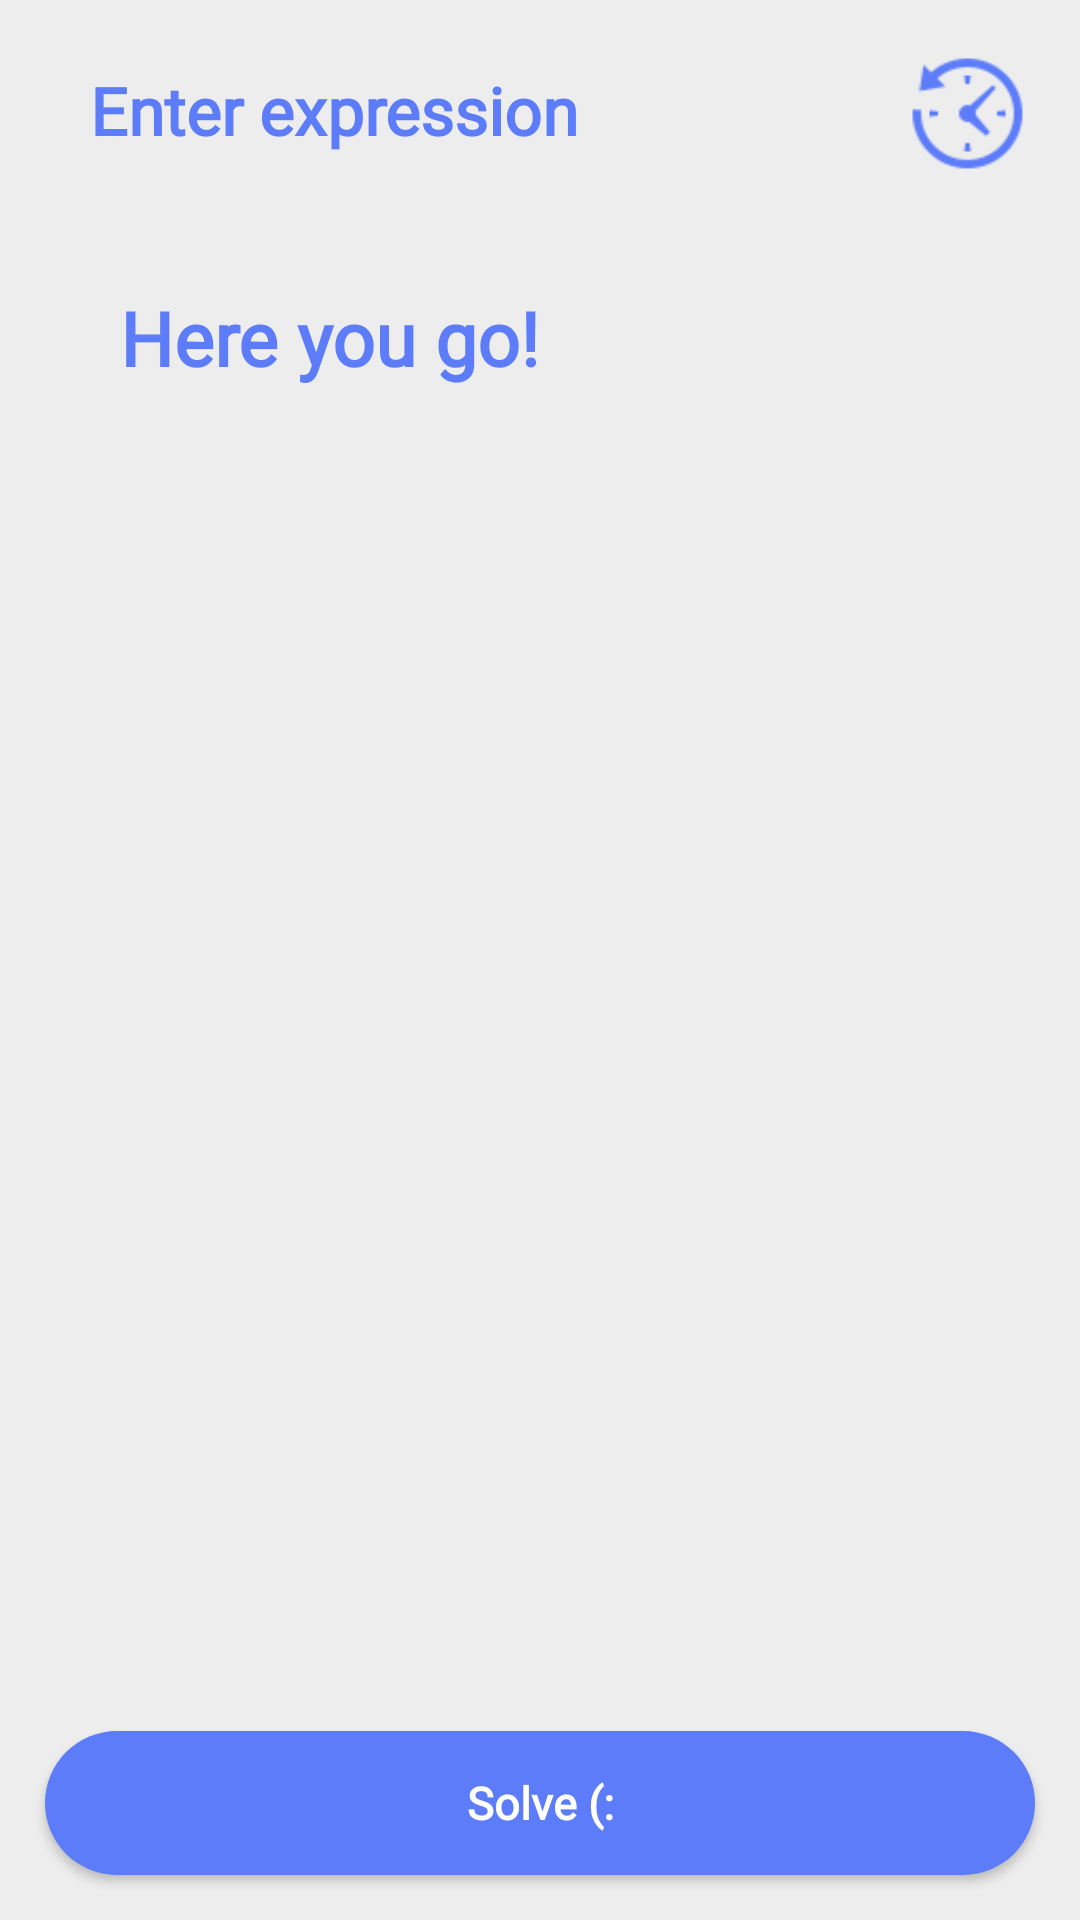

Named icons in this screenshot (1080x1920) and their centers, point (x, y):
history: point (967, 113)
